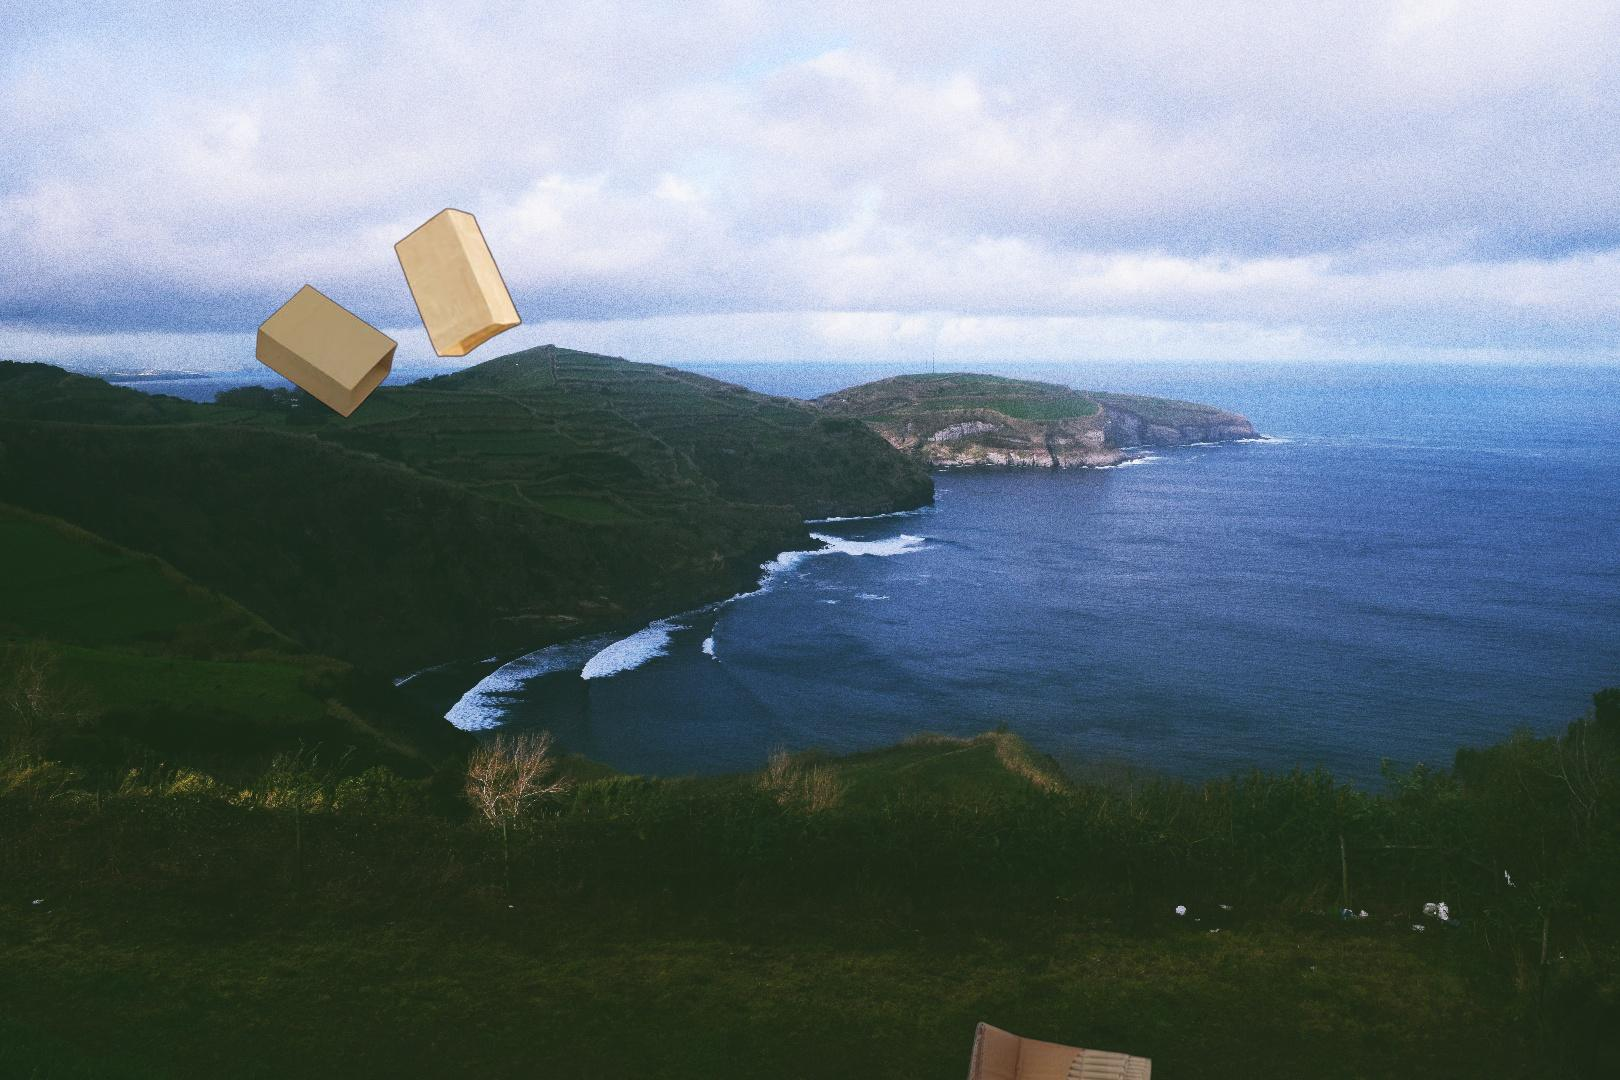paper-bag: (256, 207, 524, 421)
trashbox-cardboard: (951, 1020, 1157, 1080)
